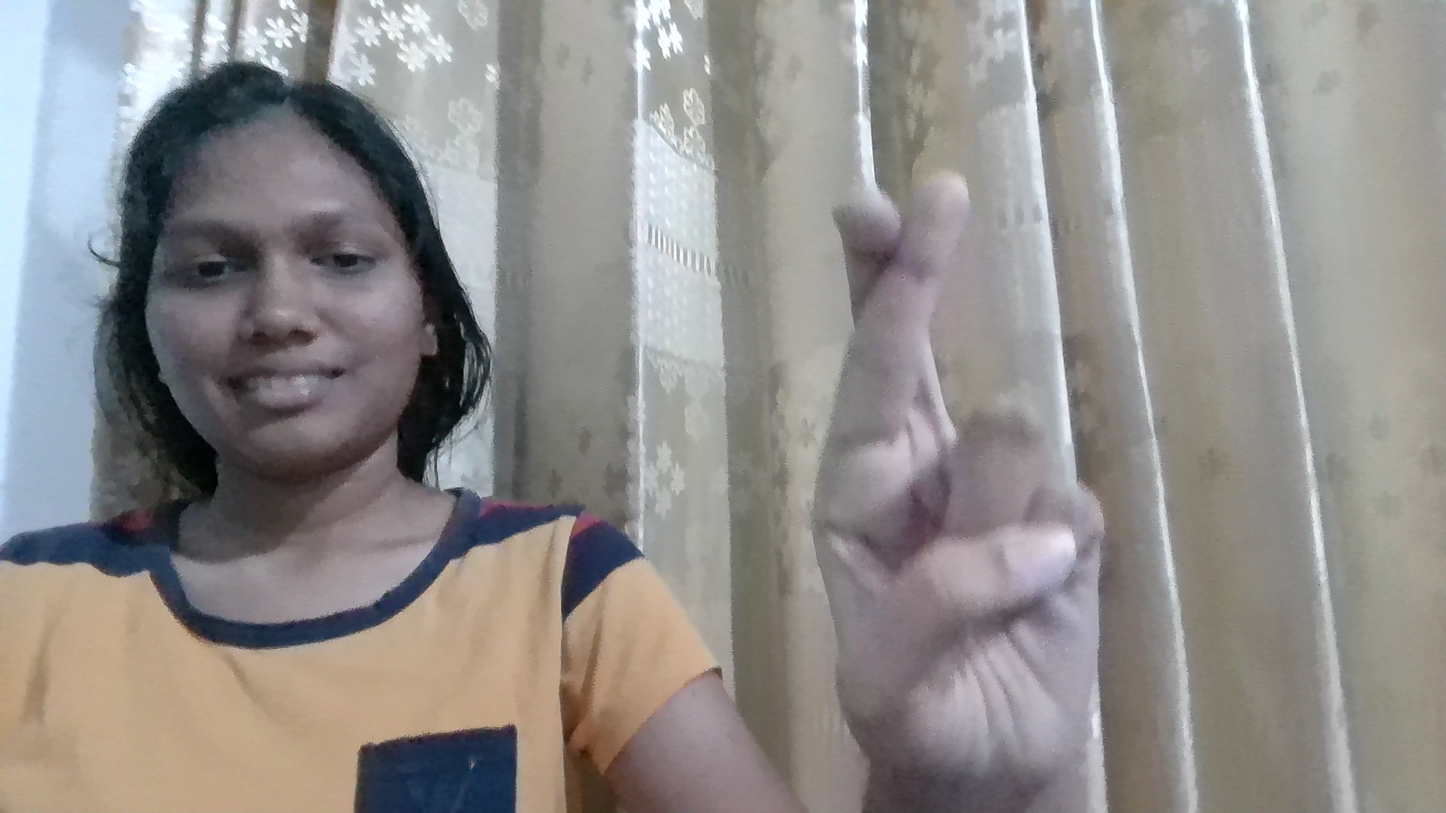Good_Luck: (779, 107, 1224, 748)
